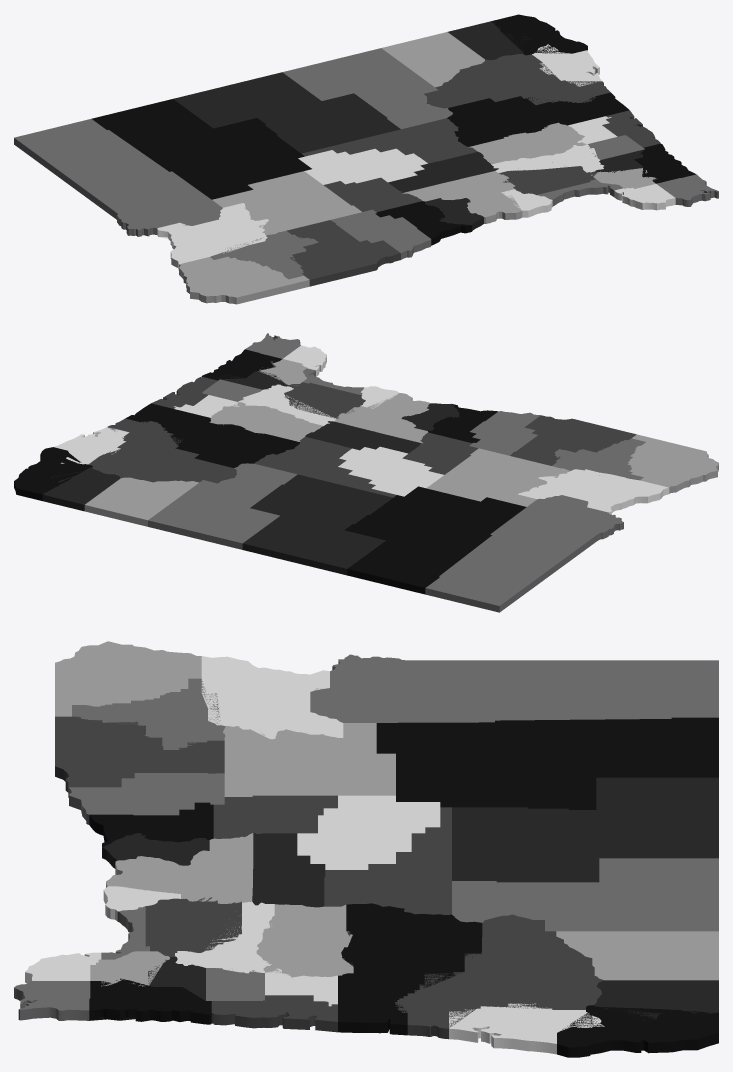
The model's file is Oregon_Counties_3D.fbx.
The picture shows the model from 3 angles, top to bottom: view 1: azimuth 30°, elevation 25°; view 2: azimuth 150°, elevation 25°; view 3: azimuth 270°, elevation 25°; orthographic projection. The views are drawn at different scales.
Visible parts, largest first — view 1: OR_Malheur_County_3D, OR_Harney_County_3D, OR_Lake_County_3D, OR_Klamath_County_3D, OR_Douglas_County_3D, OR_Lane_County_3D, OR_Grant_County_3D, OR_Wallowa_County_3D, OR_Umatilla_County_3D, OR_Baker_County_3D, OR_Crook_County_3D, OR_Deschutes_County_3D (+24 smaller); view 2: OR_Malheur_County_3D, OR_Harney_County_3D, OR_Lake_County_3D, OR_Klamath_County_3D, OR_Douglas_County_3D, OR_Lane_County_3D, OR_Grant_County_3D, OR_Baker_County_3D, OR_Wallowa_County_3D, OR_Umatilla_County_3D, OR_Jackson_County_3D, OR_Crook_County_3D (+24 smaller); view 3: OR_Harney_County_3D, OR_Malheur_County_3D, OR_Lake_County_3D, OR_Klamath_County_3D, OR_Douglas_County_3D, OR_Lane_County_3D, OR_Grant_County_3D, OR_Umatilla_County_3D, OR_Baker_County_3D, OR_Crook_County_3D, OR_Wallowa_County_3D, OR_Deschutes_County_3D (+24 smaller).
Boxes of the visible parts, bbox=[...] form: OR_Malheur_County_3D: bbox=[14, 118, 222, 236]; OR_Harney_County_3D: bbox=[92, 99, 311, 199]; OR_Lake_County_3D: bbox=[173, 72, 400, 153]; OR_Klamath_County_3D: bbox=[282, 48, 452, 129]; OR_Douglas_County_3D: bbox=[424, 54, 610, 108]; OR_Lane_County_3D: bbox=[447, 92, 629, 146]; OR_Grant_County_3D: bbox=[212, 171, 361, 235]; OR_Wallowa_County_3D: bbox=[179, 256, 309, 304]; OR_Umatilla_County_3D: bbox=[287, 220, 400, 286]; OR_Baker_County_3D: bbox=[157, 203, 268, 270]; OR_Crook_County_3D: bbox=[298, 148, 427, 184]; OR_Deschutes_County_3D: bbox=[302, 118, 477, 163]; OR_Malheur_County_3D: bbox=[425, 495, 623, 612]; OR_Harney_County_3D: bbox=[344, 486, 526, 594]; OR_Lake_County_3D: bbox=[242, 474, 392, 575]; OR_Klamath_County_3D: bbox=[148, 463, 297, 549]; OR_Douglas_County_3D: bbox=[88, 418, 236, 483]; OR_Lane_County_3D: bbox=[125, 403, 300, 467]; OR_Grant_County_3D: bbox=[426, 448, 569, 506]; OR_Baker_County_3D: bbox=[518, 469, 669, 514]; OR_Wallowa_County_3D: bbox=[627, 434, 718, 493]; OR_Umatilla_County_3D: bbox=[510, 415, 636, 465]; OR_Jackson_County_3D: bbox=[84, 477, 199, 526]; OR_Crook_County_3D: bbox=[338, 446, 443, 496]; OR_Harney_County_3D: bbox=[376, 717, 718, 809]; OR_Malheur_County_3D: bbox=[310, 654, 718, 722]; OR_Lake_County_3D: bbox=[452, 777, 718, 882]; OR_Klamath_County_3D: bbox=[452, 858, 718, 931]; OR_Douglas_County_3D: bbox=[395, 914, 603, 1039]; OR_Lane_County_3D: bbox=[338, 903, 482, 1035]; OR_Grant_County_3D: bbox=[223, 723, 395, 796]; OR_Umatilla_County_3D: bbox=[55, 716, 224, 792]; OR_Baker_County_3D: bbox=[201, 656, 343, 739]; OR_Crook_County_3D: bbox=[297, 795, 440, 869]; OR_Wallowa_County_3D: bbox=[55, 641, 201, 716]; OR_Deschutes_County_3D: bbox=[324, 807, 451, 914].
Bounding box in the file's own units: 837 × 10 × 614.
